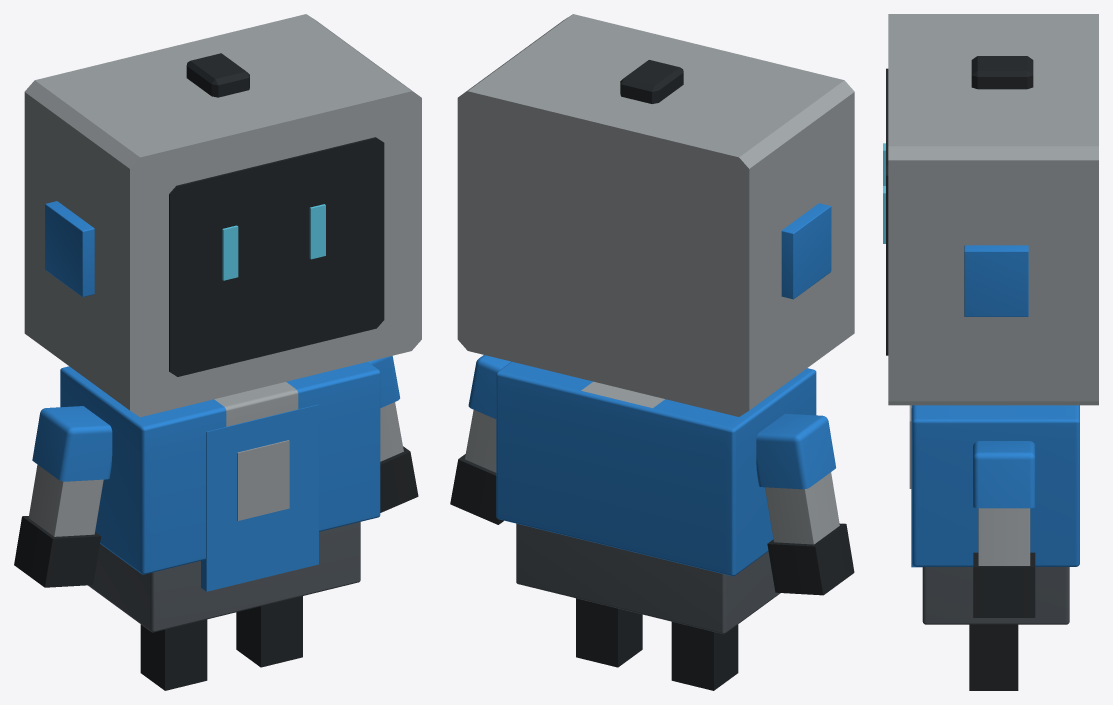
File: roboott2 (1) 1.fbx
3 views of the same model, side by side, from view 1: azimuth 30°, elevation 25°; view 2: azimuth 150°, elevation 25°; view 3: azimuth 270°, elevation 25° (orthographic).
Parts seen in each view (by area): view 1: Cube, Cube.001, Cube.007, Cube.013, Cube.009, Cube.008, Cube.011, Cube.012, Cube.003, Cube.010, Cube.016, Cube.006 (+1 smaller); view 2: Cube, Cube.007, Cube.013, Cube.008, Cube.011, Cube.003, Cube.012, Cube.016; view 3: Cube, Cube.007, Cube.013, Cube.008, Cube.004, Cube.012, Cube.016, Cube.001.
Part boxes in pixels (bbox=[...]): Cube: bbox=[24, 14, 421, 417]; Cube.001: bbox=[169, 137, 384, 376]; Cube.007: bbox=[60, 362, 380, 574]; Cube.013: bbox=[14, 356, 418, 587]; Cube.009: bbox=[201, 404, 318, 591]; Cube.008: bbox=[88, 522, 360, 632]; Cube.011: bbox=[140, 619, 207, 690]; Cube.012: bbox=[236, 596, 302, 667]; Cube.003: bbox=[45, 201, 94, 297]; Cube.010: bbox=[237, 440, 289, 520]; Cube.016: bbox=[186, 53, 249, 97]; Cube.006: bbox=[309, 204, 325, 259]; Cube: bbox=[457, 14, 854, 416]; Cube.007: bbox=[496, 361, 816, 576]; Cube.013: bbox=[450, 355, 854, 595]; Cube.008: bbox=[516, 523, 780, 634]; Cube.011: bbox=[671, 622, 738, 690]; Cube.003: bbox=[781, 203, 831, 299]; Cube.012: bbox=[576, 598, 642, 667]; Cube.016: bbox=[620, 60, 683, 103]; Cube: bbox=[888, 14, 1098, 405]; Cube.007: bbox=[912, 405, 1079, 566]; Cube.013: bbox=[973, 441, 1035, 617]; Cube.008: bbox=[922, 567, 1069, 624]; Cube.004: bbox=[964, 245, 1028, 316]; Cube.012: bbox=[969, 624, 1018, 690]; Cube.016: bbox=[971, 56, 1033, 89]; Cube.001: bbox=[886, 68, 888, 355].
Size of the model in its own units: 78.68 by 120 by 39.4.
